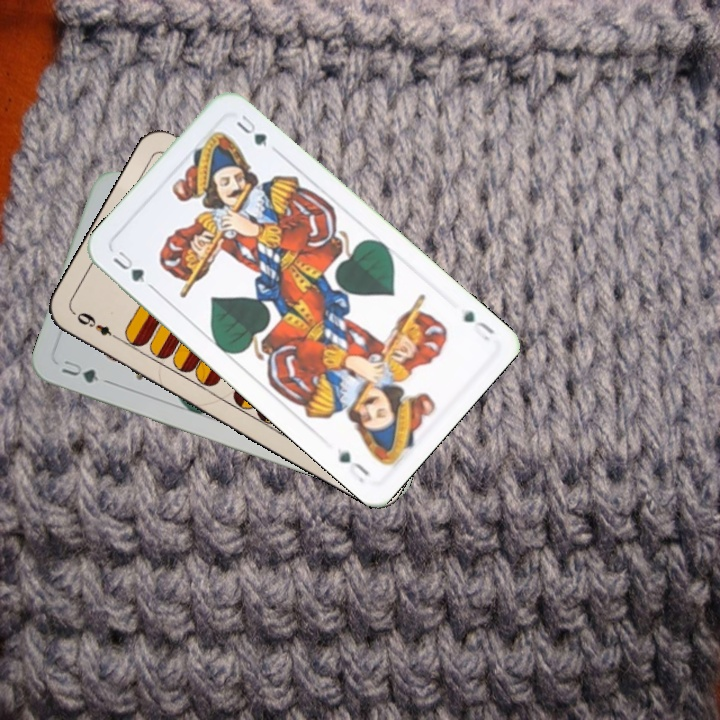E9: (70, 308, 124, 344)
GU: (108, 246, 156, 292), (459, 306, 498, 344), (57, 355, 102, 386)
